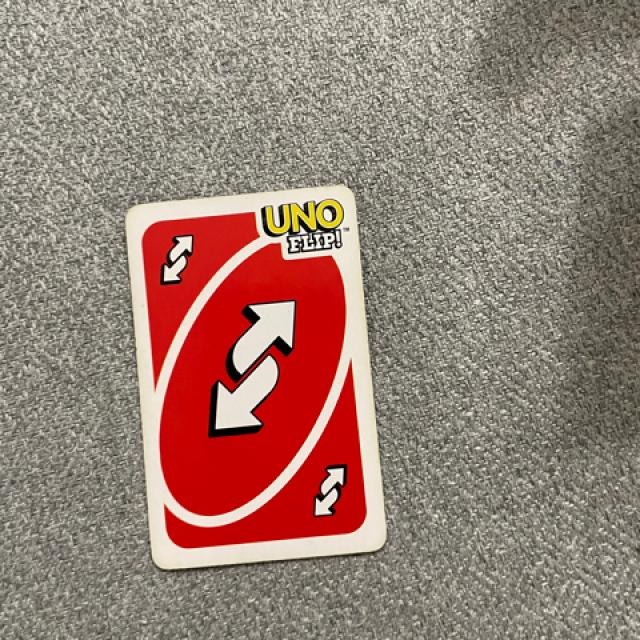lredrevers-20: (137, 218, 219, 294)
